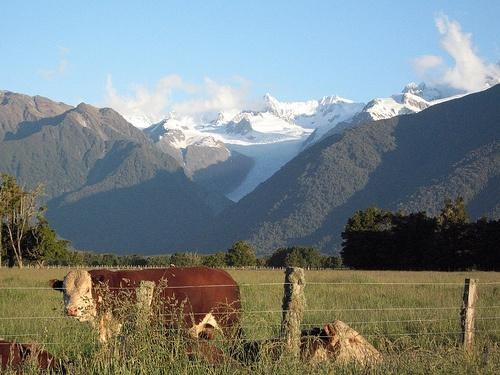cow: (48, 262, 244, 349)
